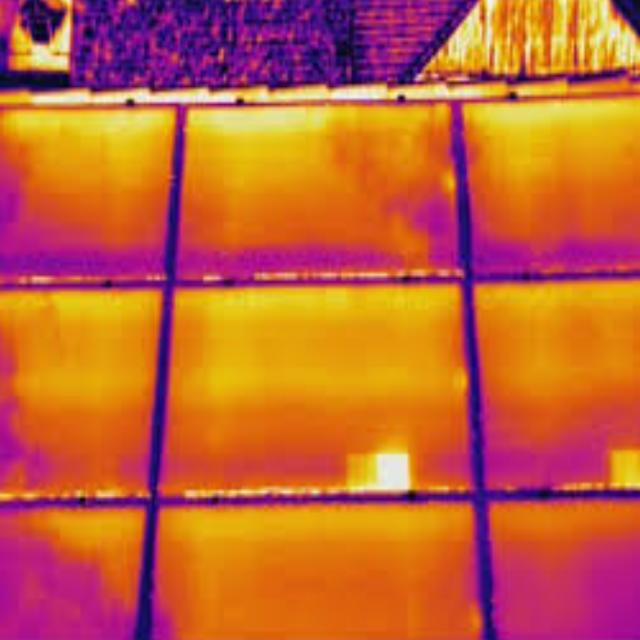hotspot group: (338, 431, 421, 501), (597, 444, 640, 498)
panel with hotspots: (151, 269, 482, 501), (471, 271, 640, 492)
